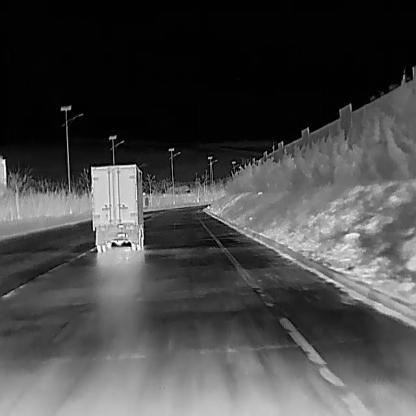car: (90, 162, 148, 252)
